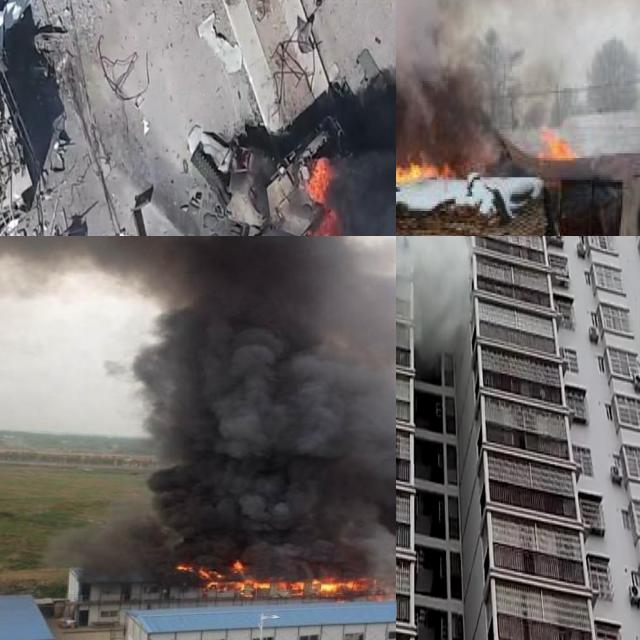fire: (172, 554, 396, 610), (301, 154, 341, 236), (396, 141, 460, 186), (538, 127, 576, 158)
smoke: (0, 236, 396, 584), (396, 0, 640, 201), (408, 236, 474, 365)
